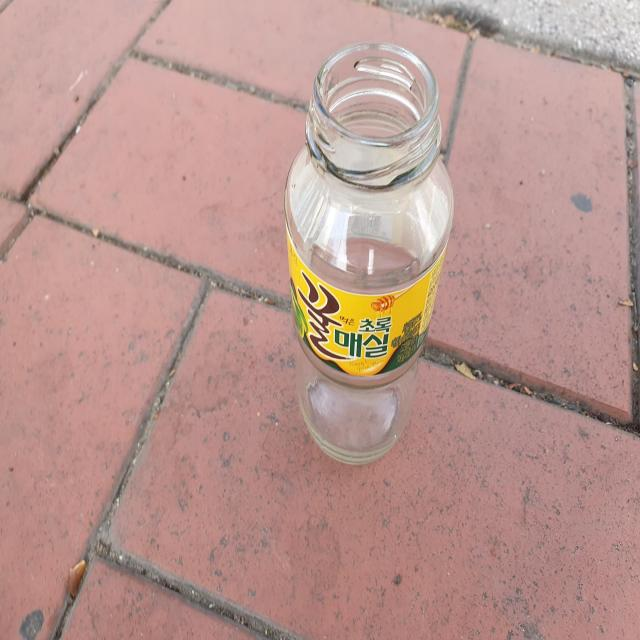glass: (285, 41, 454, 464)
